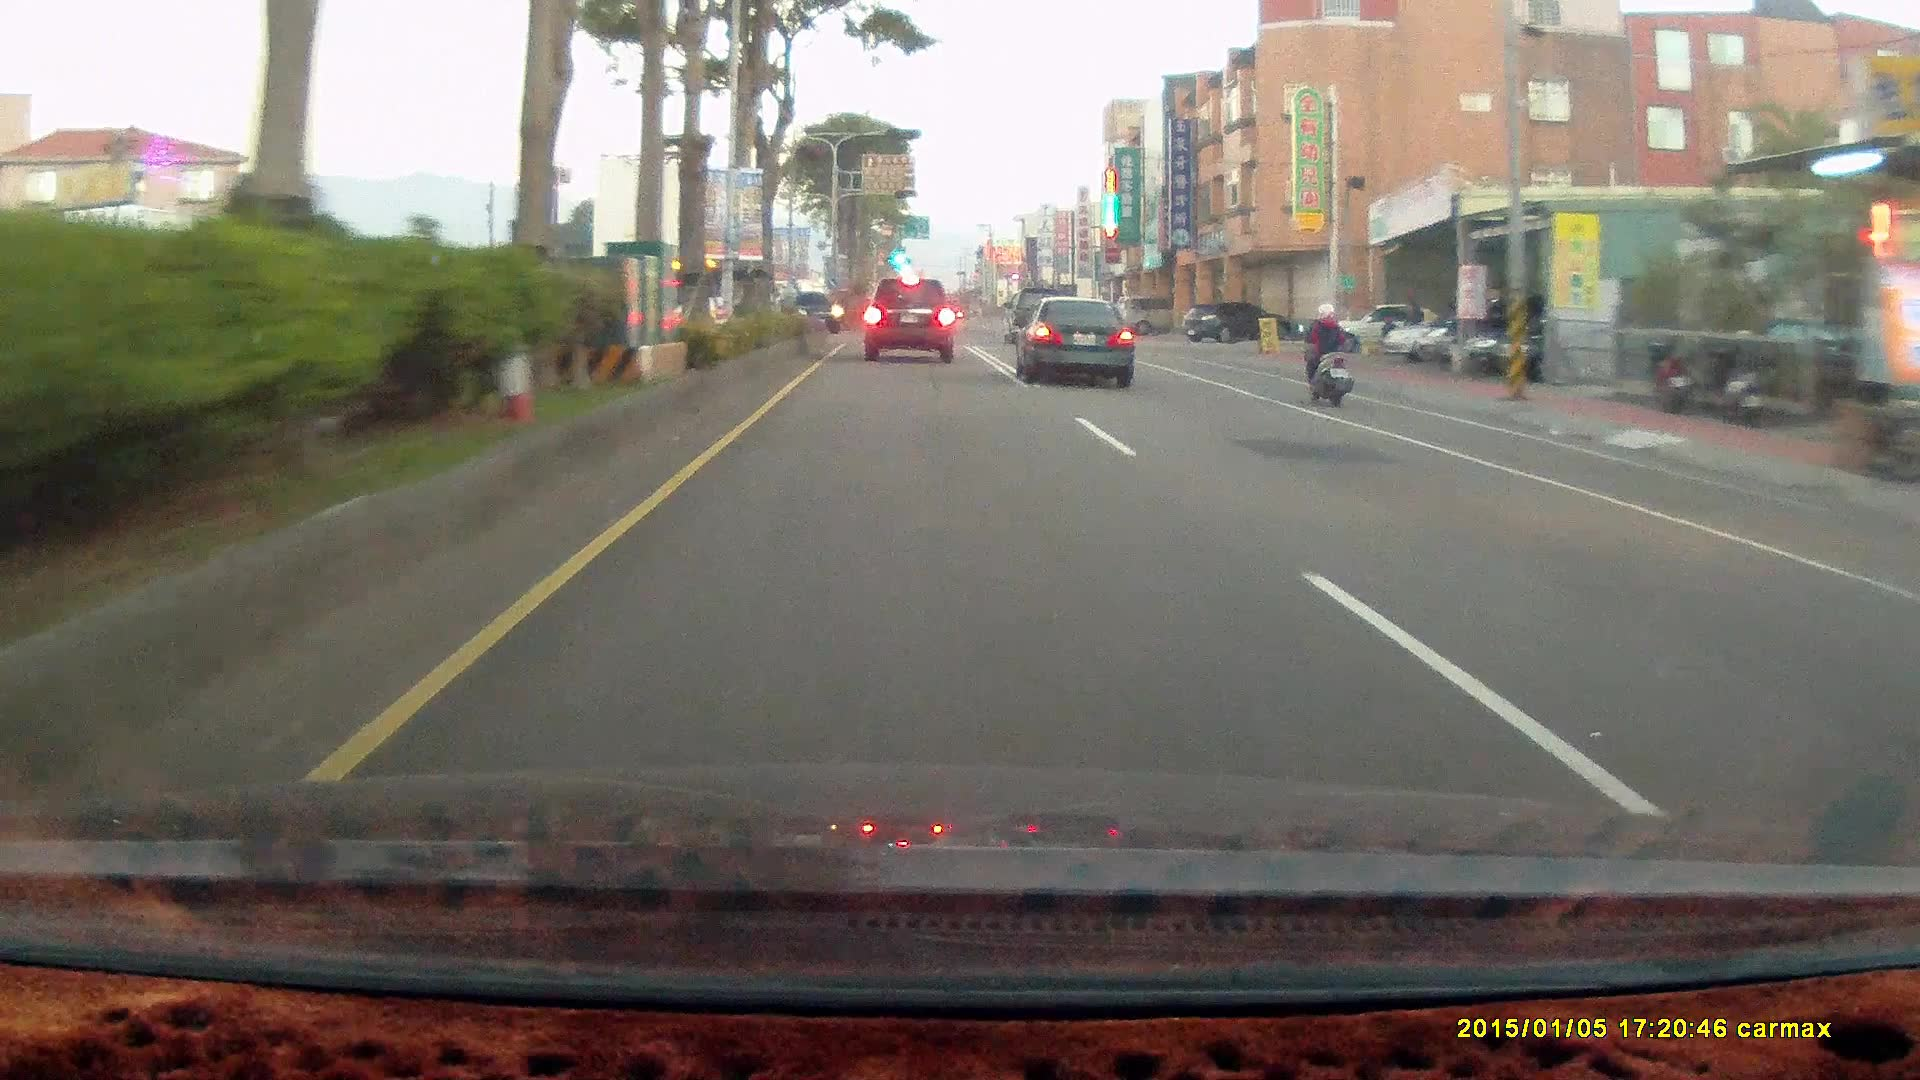rider: (1290, 290, 1367, 418), (1295, 297, 1353, 404)
vehicle: (1462, 300, 1618, 377), (1490, 308, 1650, 382), (1021, 290, 1140, 386), (1011, 294, 1133, 386), (1421, 293, 1556, 364), (1301, 297, 1457, 355), (867, 269, 961, 358), (862, 277, 953, 362), (1384, 309, 1498, 361), (1181, 300, 1289, 343), (1184, 300, 1279, 345), (1000, 286, 1065, 339), (1118, 294, 1199, 335), (782, 287, 842, 328)
